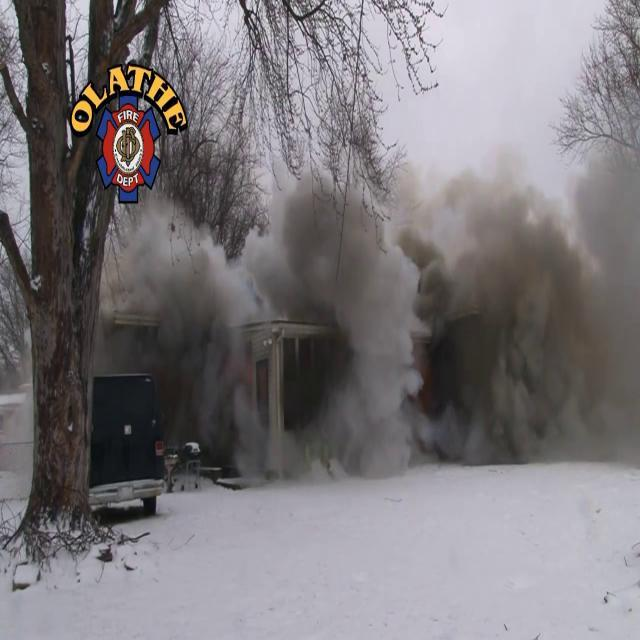Smoke: (96, 94, 640, 484)
